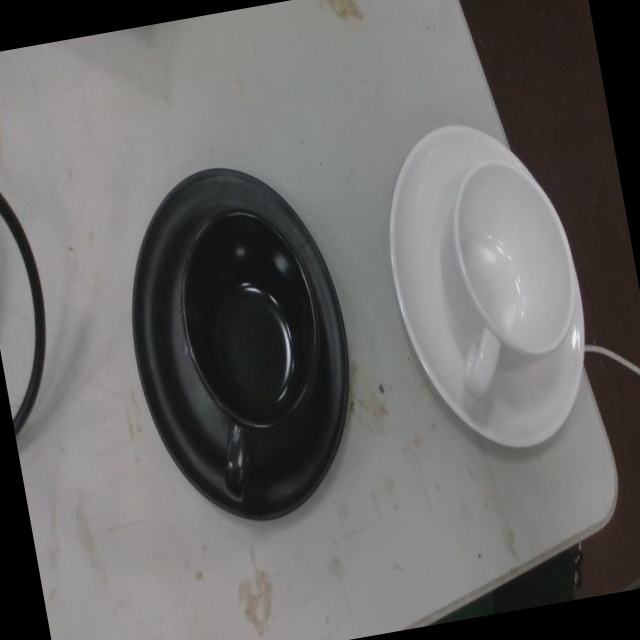black: (132, 156, 349, 529)
white: (394, 115, 581, 459)
